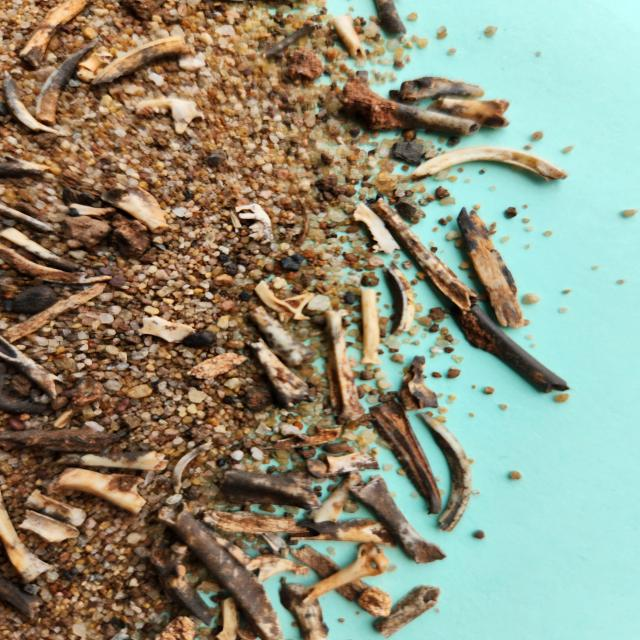fossil: (157, 499, 295, 640), (368, 196, 480, 312), (446, 300, 573, 397), (364, 398, 448, 520), (336, 68, 481, 138), (453, 206, 533, 332), (346, 472, 450, 565), (288, 542, 393, 616), (132, 542, 218, 630), (0, 281, 114, 344), (417, 406, 473, 534), (402, 144, 573, 185), (31, 35, 104, 127), (88, 30, 201, 89), (317, 306, 370, 426), (214, 458, 328, 512), (0, 484, 60, 586), (296, 543, 394, 605), (13, 0, 88, 72), (47, 467, 156, 516), (246, 335, 316, 410), (0, 242, 118, 286), (0, 336, 72, 400), (245, 304, 315, 368), (0, 223, 89, 273), (0, 70, 67, 136), (277, 575, 342, 640), (192, 516, 266, 573), (372, 583, 444, 640), (0, 426, 135, 456), (99, 183, 172, 237), (385, 72, 488, 106), (200, 508, 321, 536), (422, 97, 521, 131), (396, 352, 452, 412), (108, 211, 167, 264), (379, 261, 418, 339), (349, 200, 402, 257), (133, 97, 209, 135), (51, 449, 170, 473), (258, 20, 324, 61), (171, 438, 219, 494), (17, 508, 89, 545), (317, 442, 385, 481), (19, 489, 88, 527), (357, 286, 388, 368), (252, 280, 312, 322), (261, 423, 347, 451), (0, 579, 53, 623), (182, 350, 250, 382), (136, 310, 197, 345), (56, 213, 118, 247), (0, 200, 58, 236), (329, 12, 368, 64), (235, 202, 278, 247), (245, 555, 311, 584), (0, 397, 73, 422), (285, 196, 315, 251), (74, 46, 116, 83), (372, 0, 414, 37), (0, 153, 56, 180), (214, 590, 241, 640), (61, 199, 118, 218), (157, 614, 196, 640), (254, 525, 290, 552)
